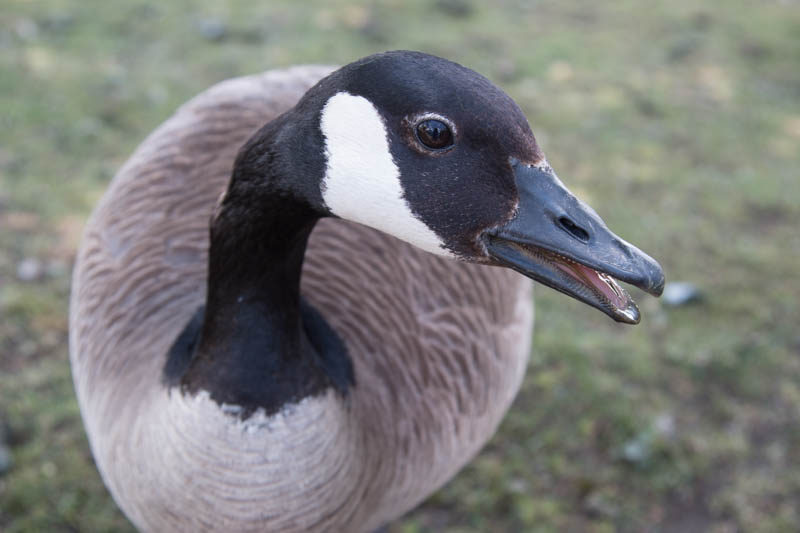goose-head: (278, 51, 664, 326)
